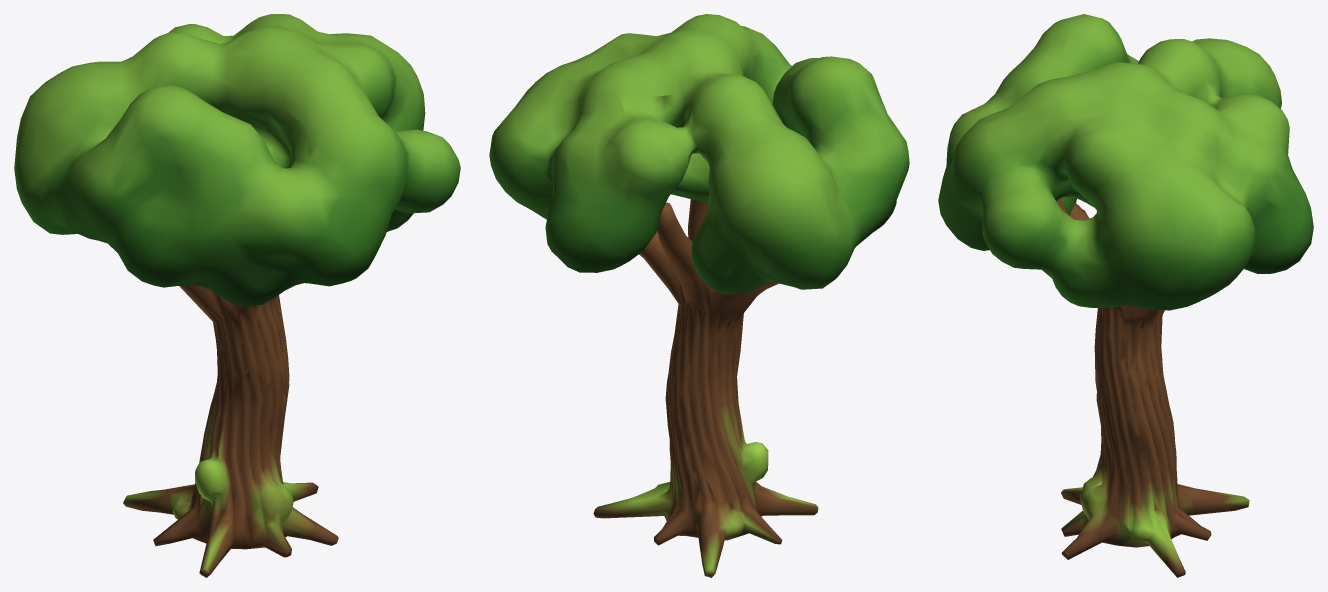
The model's file is arbol_roble_abuelo_v05_lod1.glb.
3 renders of one model, left to right at view 1: azimuth 30°, elevation 25°; view 2: azimuth 150°, elevation 25°; view 3: azimuth 270°, elevation 25°, orthographic. The views are drawn at different scales.
Parts seen in each view (by area): view 1: RobleAbuelo_Copa_LOD1, RobleAbuelo_Tronco_LOD1; view 2: RobleAbuelo_Copa_LOD1, RobleAbuelo_Tronco_LOD1; view 3: RobleAbuelo_Copa_LOD1, RobleAbuelo_Tronco_LOD1.
Part boxes in pixels (x1,y1,x2,y2): RobleAbuelo_Copa_LOD1: (14,14,460,306); RobleAbuelo_Tronco_LOD1: (123,285,338,577); RobleAbuelo_Copa_LOD1: (489,14,909,294); RobleAbuelo_Tronco_LOD1: (593,199,818,577); RobleAbuelo_Copa_LOD1: (938,14,1313,310); RobleAbuelo_Tronco_LOD1: (1056,198,1249,577).
Size of the model in its own units: 42.35 by 54.24 by 38.56.
